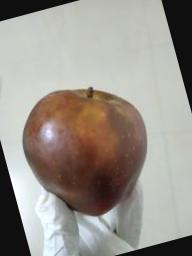Apple Rotten: (9, 66, 166, 228)
